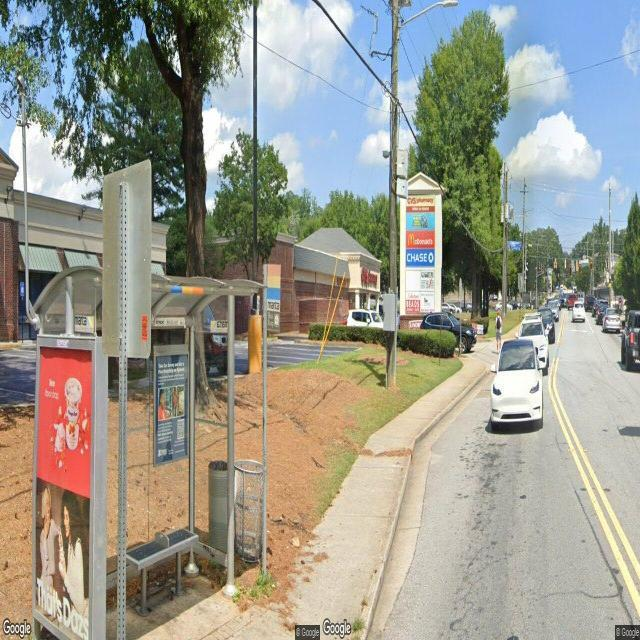seating: (127, 526, 201, 614)
shelter: (28, 270, 262, 640)
trash_can: (233, 458, 265, 566), (208, 460, 232, 566)
